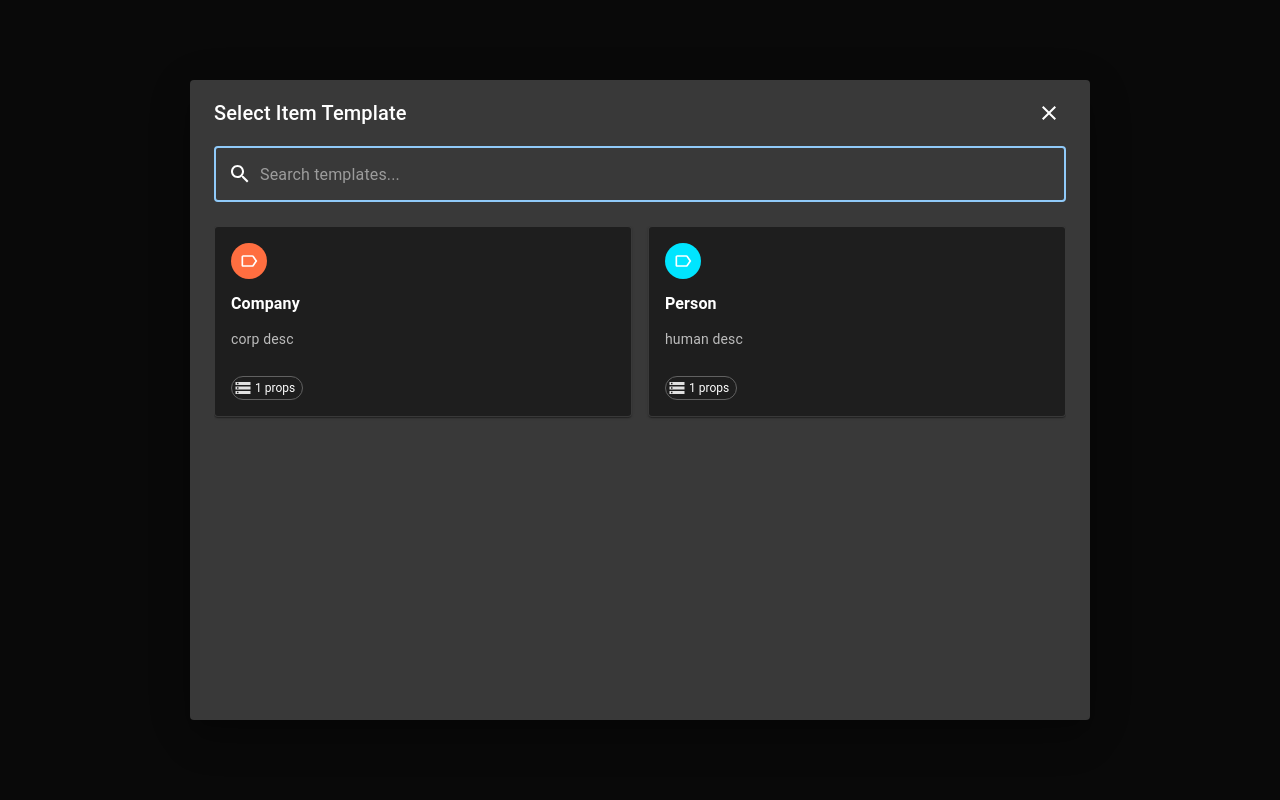
Test case: TemplateSelectionModal › filters templates by name as user types
Check: the text "Company" is shown, box [231, 294, 300, 313]
In the field with placeholder "Search templates...": point(663, 174) [260, 146, 1066, 202], type "comp"
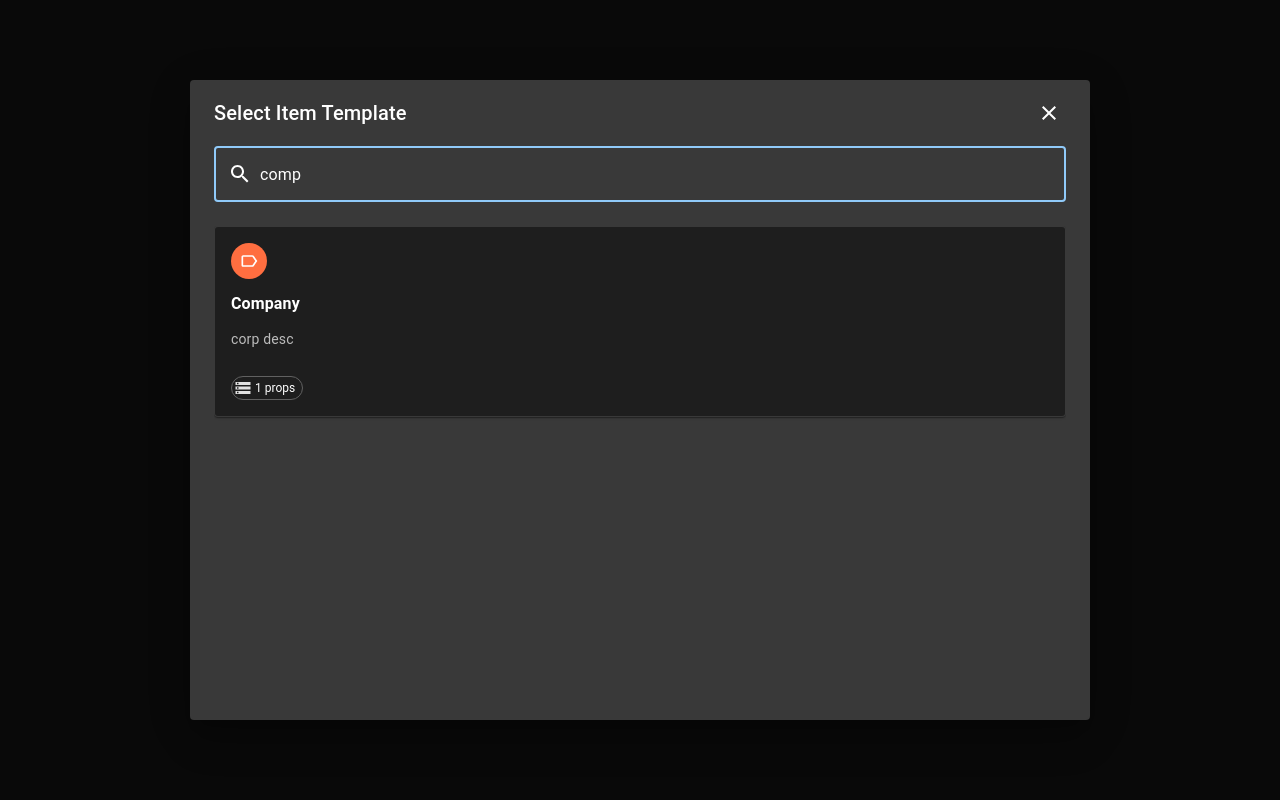
Check: the text "Company" is shown, box [231, 294, 300, 313]
Check: the button "Person" is gone
